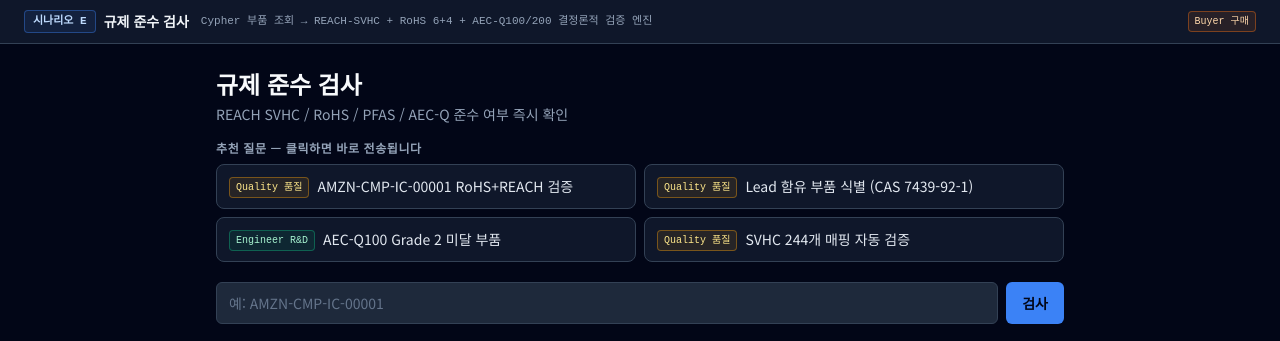
Test: compliance — status rendering (E) › treats compliant:null without a status (older API) as insufficient_data, with a default message
The image size is (1280, 341).
In the field with placeholder "예: AMZN-CMP-IC-00001": (607, 302) x1=216 y1=282 x2=998 y2=324, type "AMZN-CMP-IC-00099"
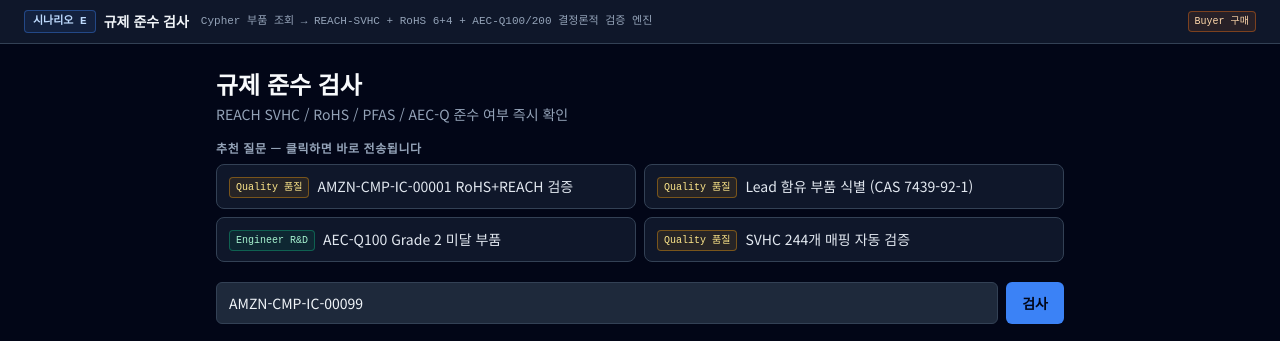
Click the button "검사": click(1035, 302) x1=1006 y1=282 x2=1064 y2=324
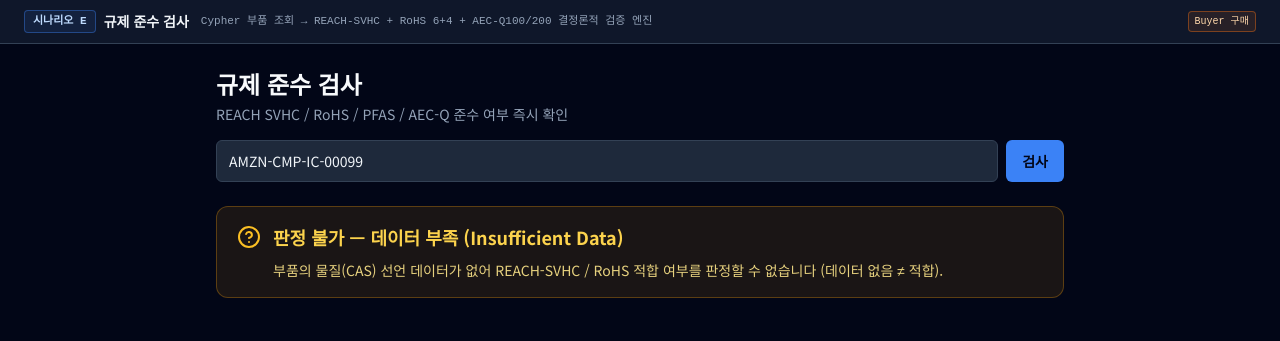
Expected: the text "판정 불가 — 데이터 부족 (Insufficient Data)" is shown, x1=237 y1=224 x2=624 y2=250
Expected: the text "물질(CAS) 선언 데이터가 없어" is shown, x1=273 y1=260 x2=943 y2=280
Expected: the text "추천 질문" is gone
